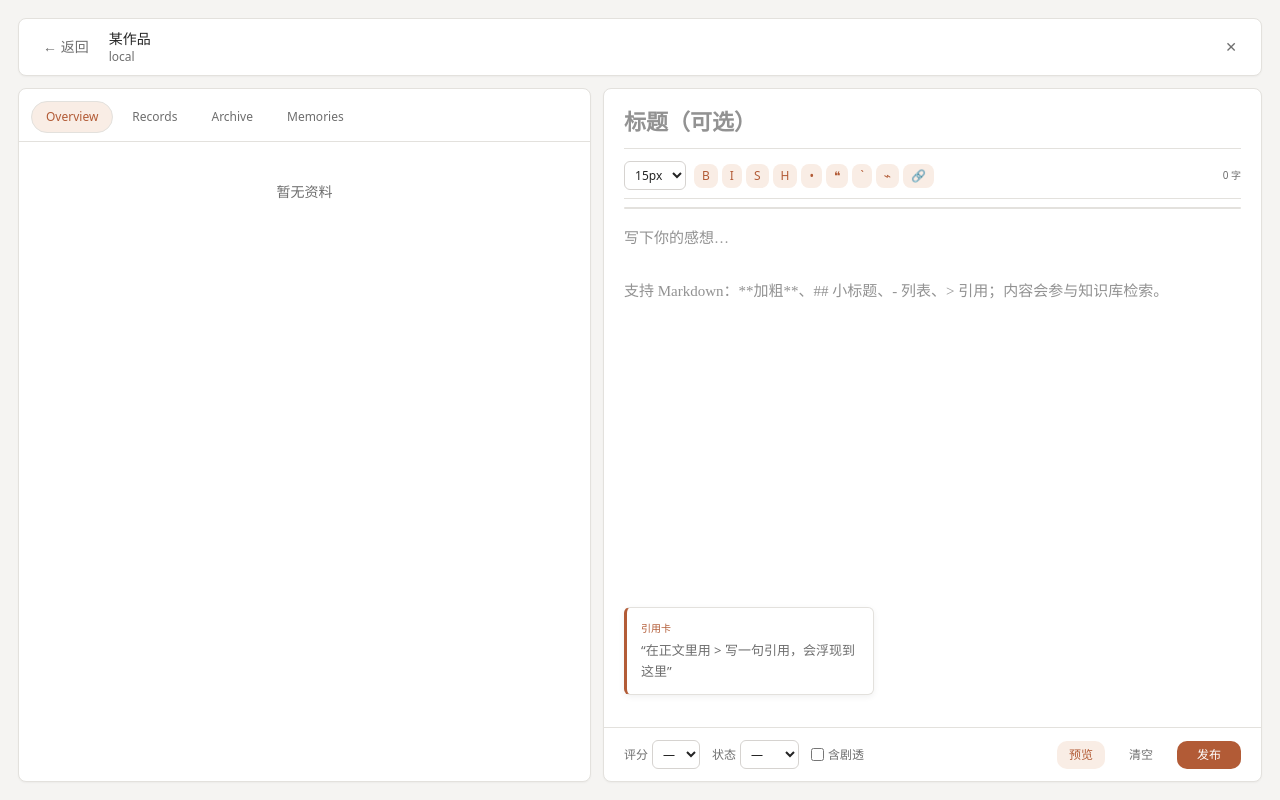
Test: ReviewStudio 沉浸式书写 › Archive 标签：展示角色概念图
Click the button "Archive".
click(232, 117)  # box [196,101,268,133]
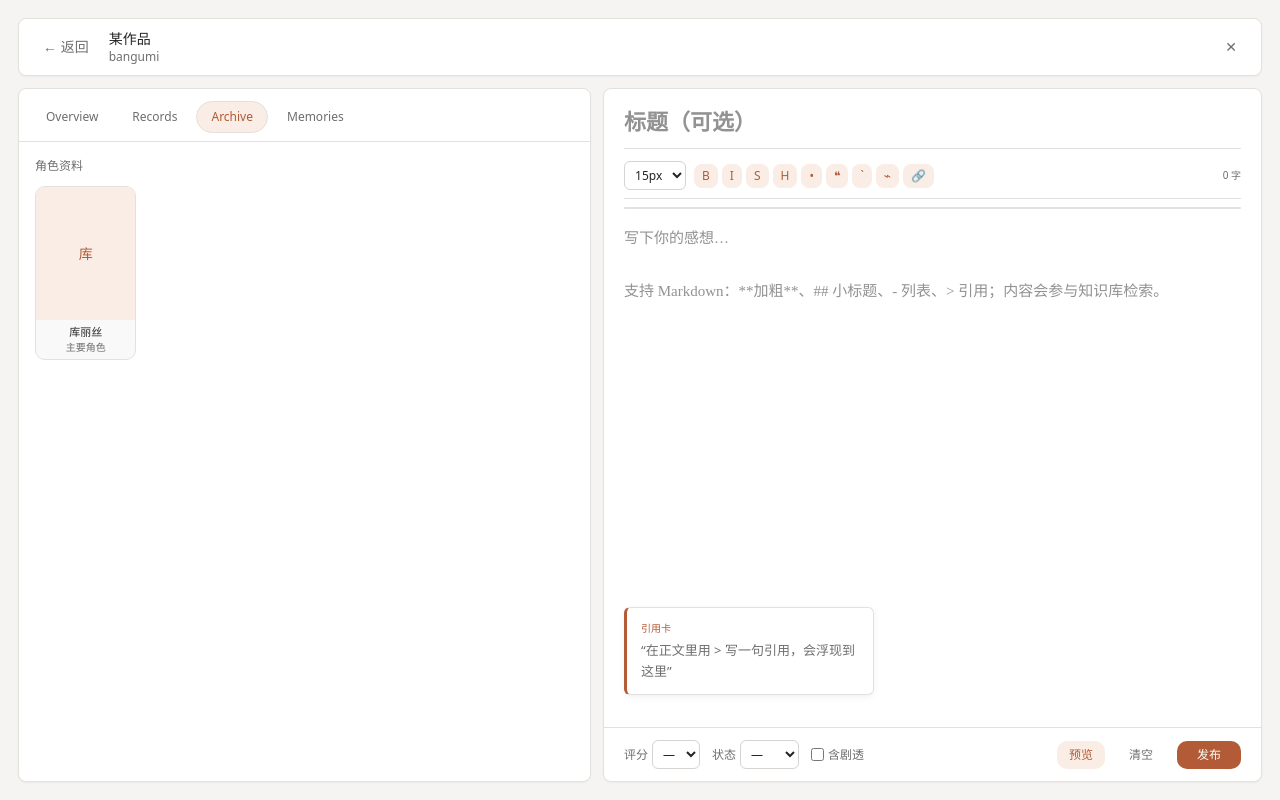
Now the text "库丽丝" is shown, box [69,324,102,338]
